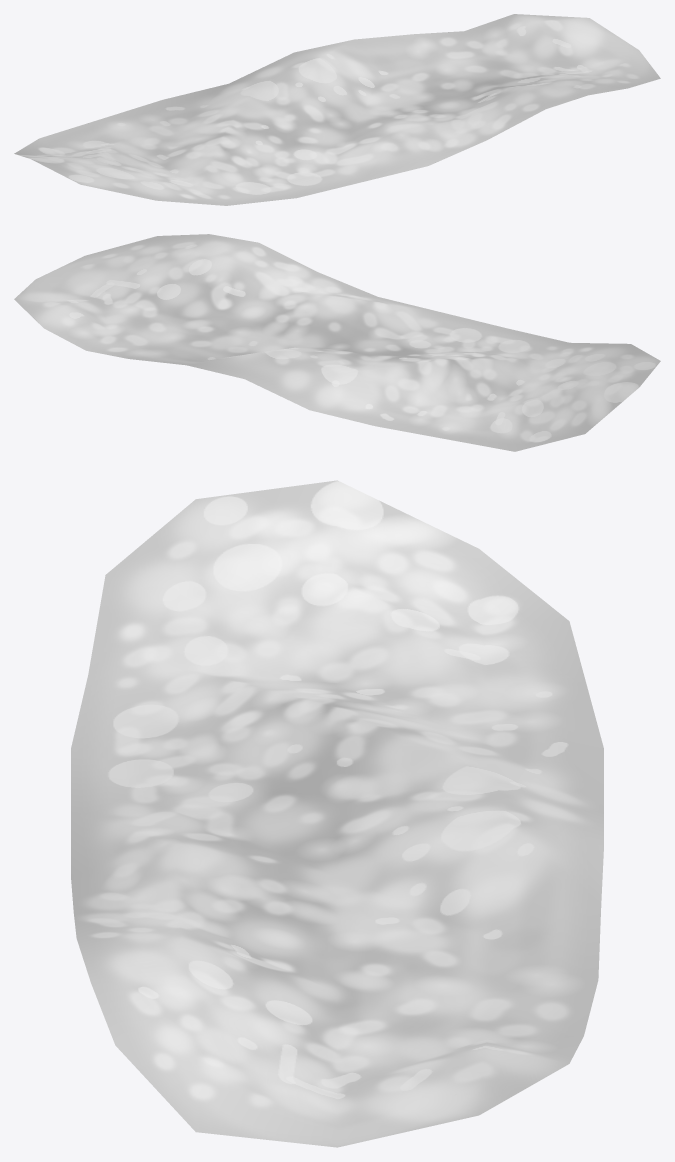
Rendered from obj_BubbleBathWater.fbx.
3 views of the same model, one above another, from view 1: azimuth 30°, elevation 25°; view 2: azimuth 150°, elevation 25°; view 3: azimuth 270°, elevation 25° (orthographic). The views are drawn at different scales.
Parts seen in each view (by area): view 1: obj_BubbleBathWater; view 2: obj_BubbleBathWater; view 3: obj_BubbleBathWater.
Boxes of the visible parts, <box> form: obj_BubbleBathWater: <box>14,14,660,205</box>; obj_BubbleBathWater: <box>14,234,660,451</box>; obj_BubbleBathWater: <box>71,480,603,1147</box>.
Size of the model in its own units: 1.71 by 0.1147 by 0.6557.
Materials: 1 (1 with a texture image).
